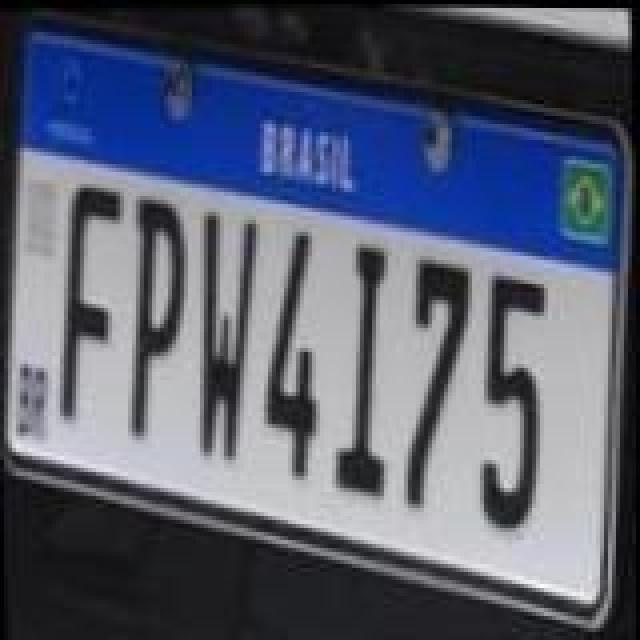4: (262, 224, 326, 480)
5: (474, 264, 558, 524)
7: (398, 258, 482, 510)
F: (54, 182, 134, 422)
I: (328, 240, 396, 504)
P: (122, 192, 194, 440)
W: (192, 204, 268, 460)
